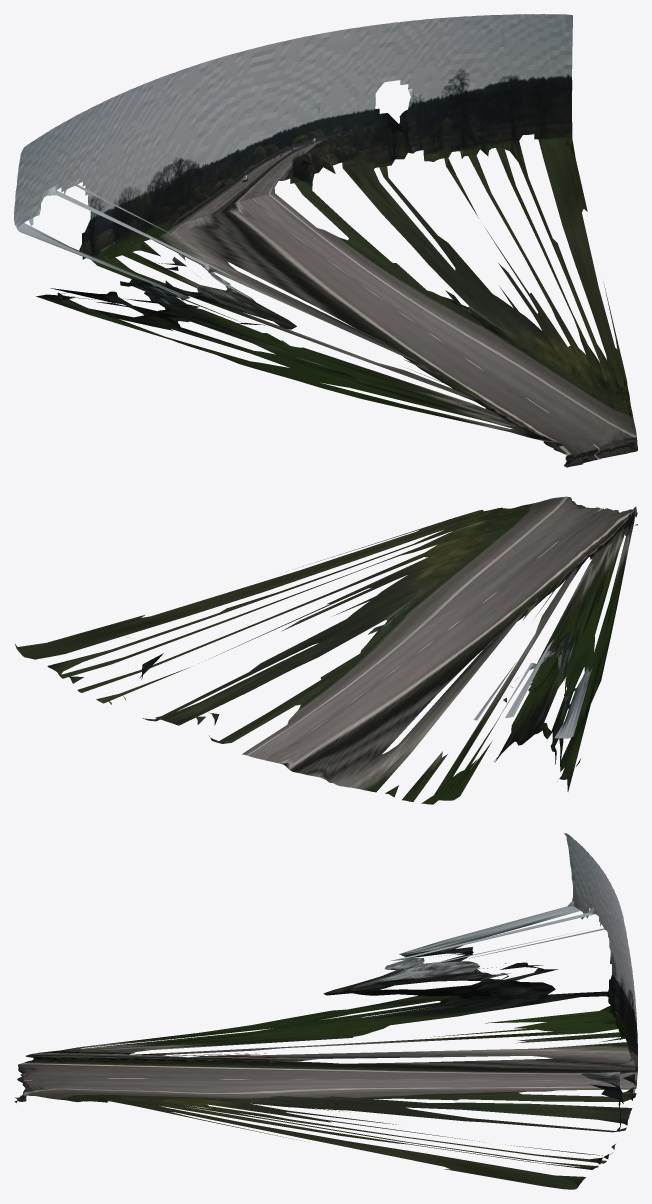
3 views of the same model, one above another, from view 1: azimuth 30°, elevation 25°; view 2: azimuth 150°, elevation 25°; view 3: azimuth 270°, elevation 25° (orthographic). The views are drawn at different scales.
Parts seen in each view (by area): view 1: defaultobject; view 2: defaultobject; view 3: defaultobject.
Boxes of the visible parts, x1,y1,x2,y2 form: defaultobject: (14, 14, 637, 467); defaultobject: (15, 496, 637, 804); defaultobject: (14, 833, 637, 1189).
Size of the model in its own units: 41.09 by 12.26 by 44.43.
Materials: 1 (1 with a texture image).
